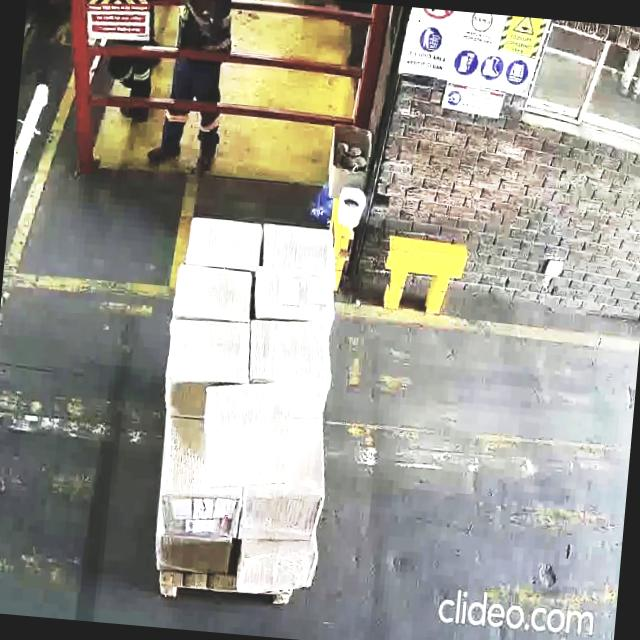Box: (190, 386, 304, 488), (247, 316, 336, 389), (164, 314, 250, 388), (172, 266, 256, 321), (240, 481, 323, 536), (156, 481, 238, 536), (251, 268, 333, 322), (184, 214, 258, 273), (258, 220, 338, 272), (239, 540, 314, 591), (152, 532, 232, 574)
